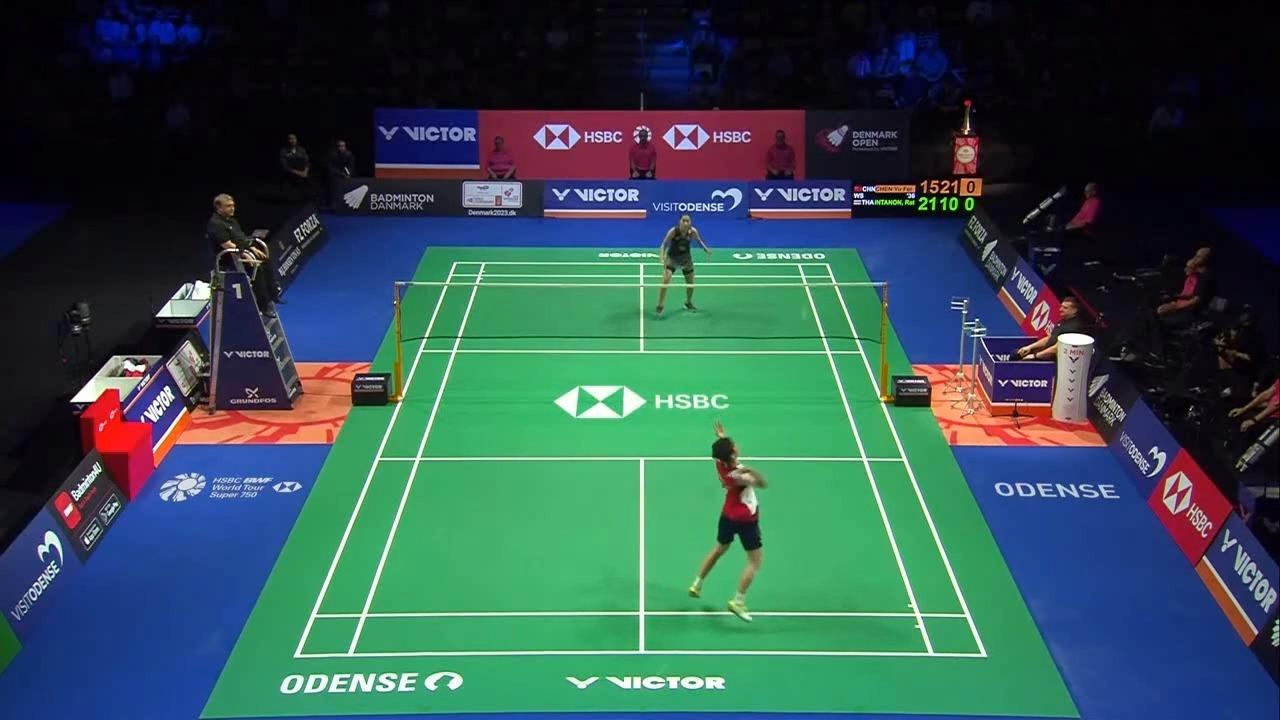shuttle: (801, 307, 811, 320)
